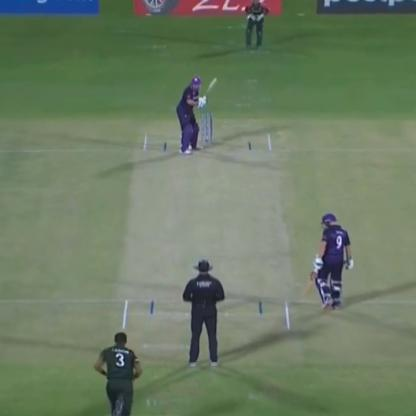bat: (298, 266, 324, 306), (197, 76, 227, 98)
pitch: (108, 130, 302, 337)
